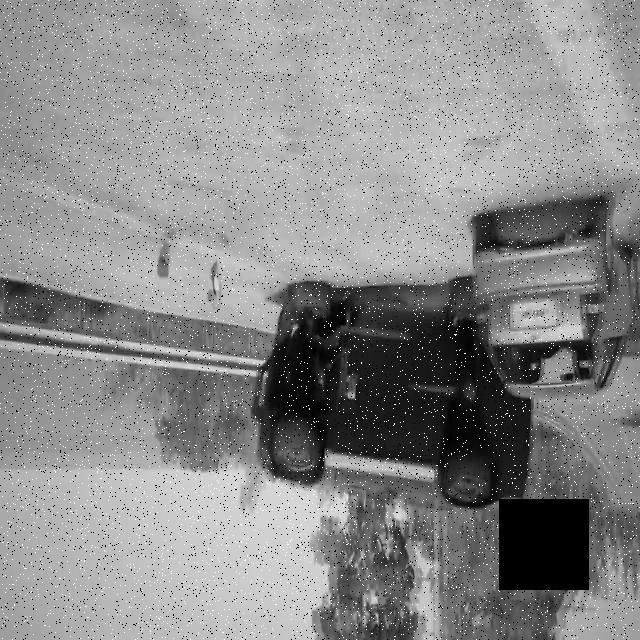severe: (248, 268, 550, 519)
